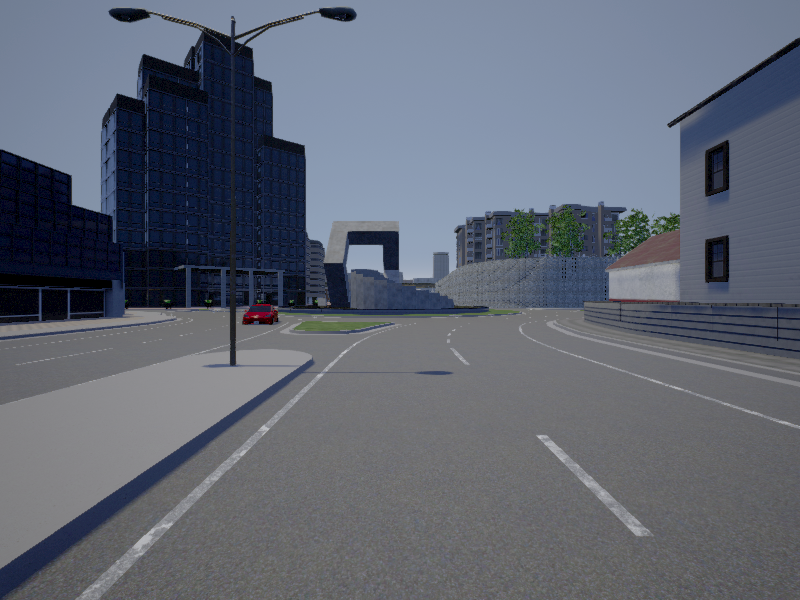Attacker: (241, 303, 279, 325)
